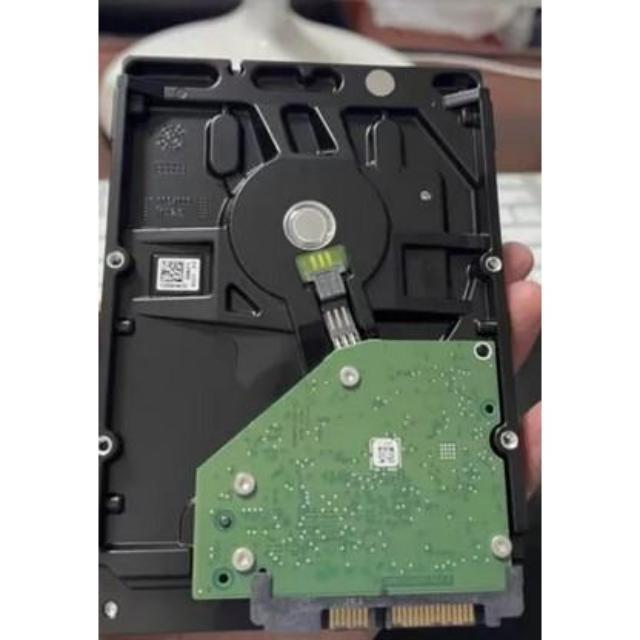DISK: (84, 46, 530, 640)
